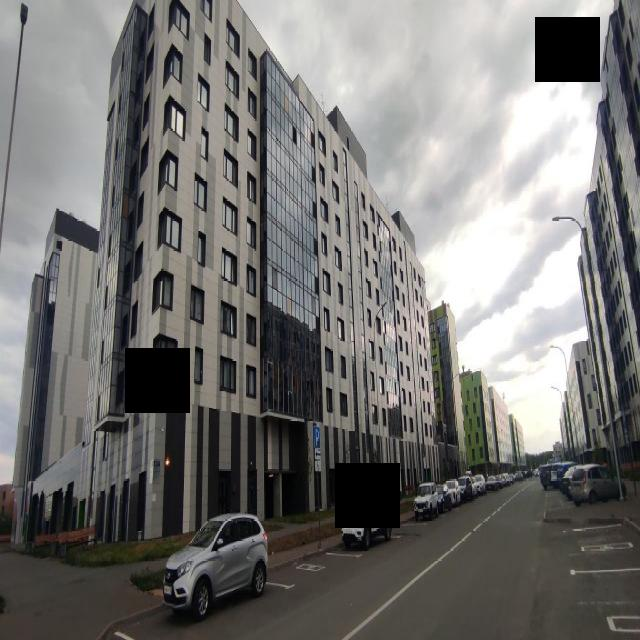Building: (79, 0, 441, 542)
